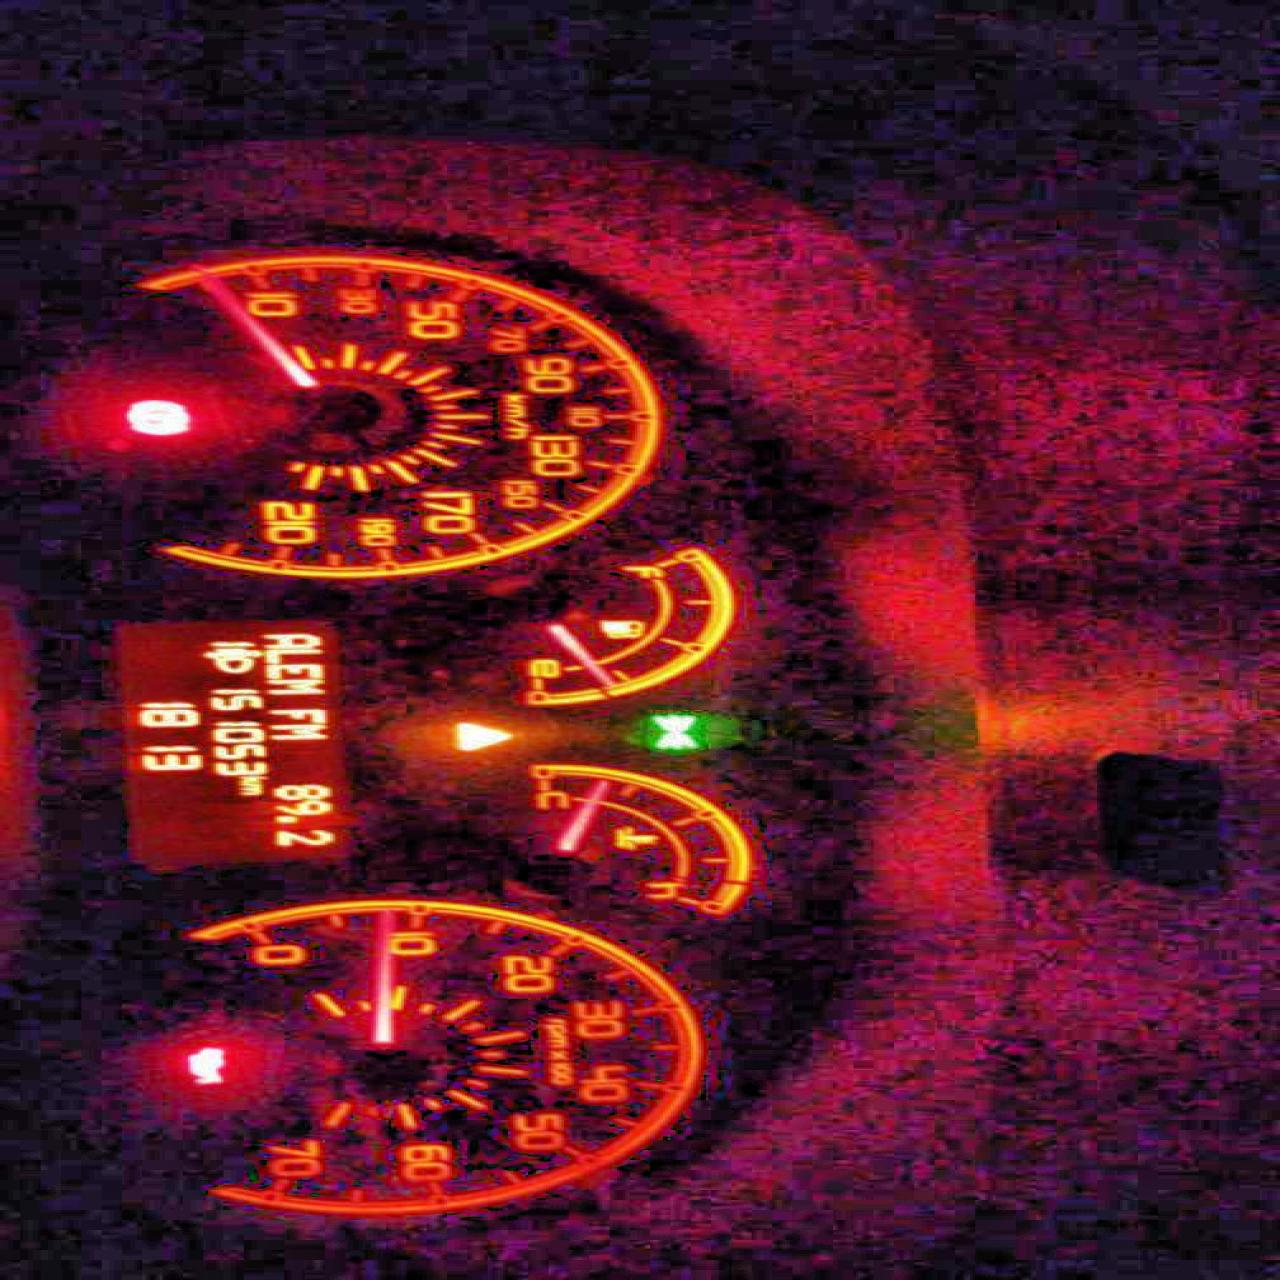-: (268, 815, 297, 824)
0: (209, 727, 261, 742)
1: (206, 686, 259, 694), (135, 701, 193, 708), (139, 744, 196, 751), (211, 719, 259, 727), (203, 639, 257, 646)
2: (268, 828, 335, 847)
3: (137, 753, 203, 770), (209, 760, 267, 775)
5: (209, 742, 267, 758), (206, 694, 264, 710)
8: (135, 708, 200, 727), (266, 783, 333, 798)
9: (270, 798, 333, 813)
X: (261, 678, 325, 694), (264, 724, 331, 740), (259, 632, 320, 647), (261, 662, 322, 678), (261, 648, 322, 662), (264, 708, 325, 722), (237, 781, 261, 795), (233, 775, 266, 783)
odometer: (104, 613, 370, 871)
